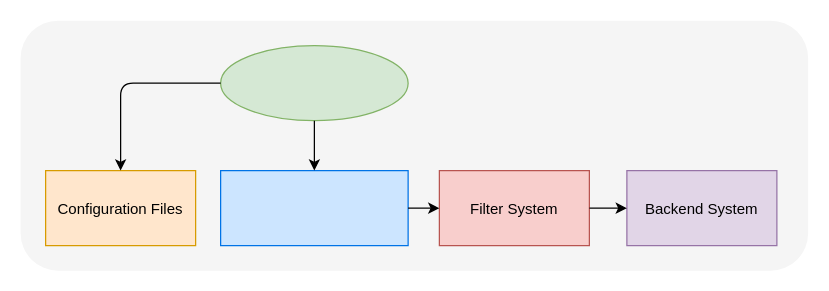
Some shapes in this 829 by 291 pixel diagram are drawn without their labels. The centre of each missing label's shape, as x and y in pixels:
"CUPS Scheduler (cupsd)" goes at (x=313, y=82).
"Job Processing Pipeline" goes at (x=313, y=207).
